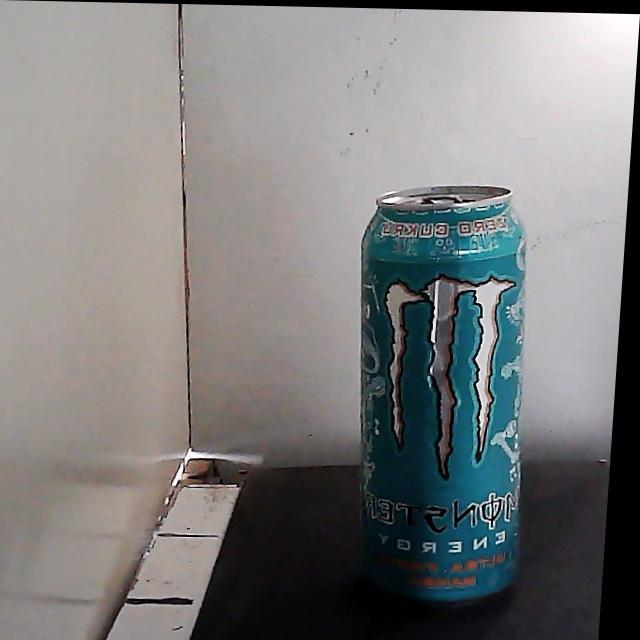metal: (360, 185, 525, 603)
